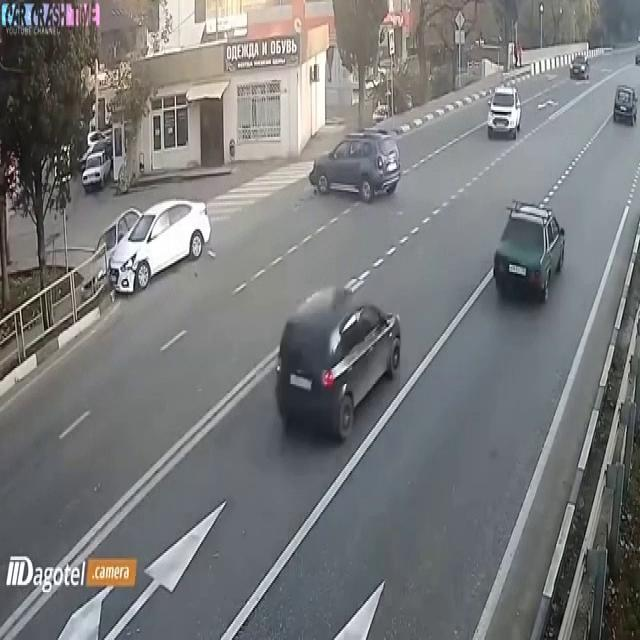accident: (88, 190, 166, 308)
